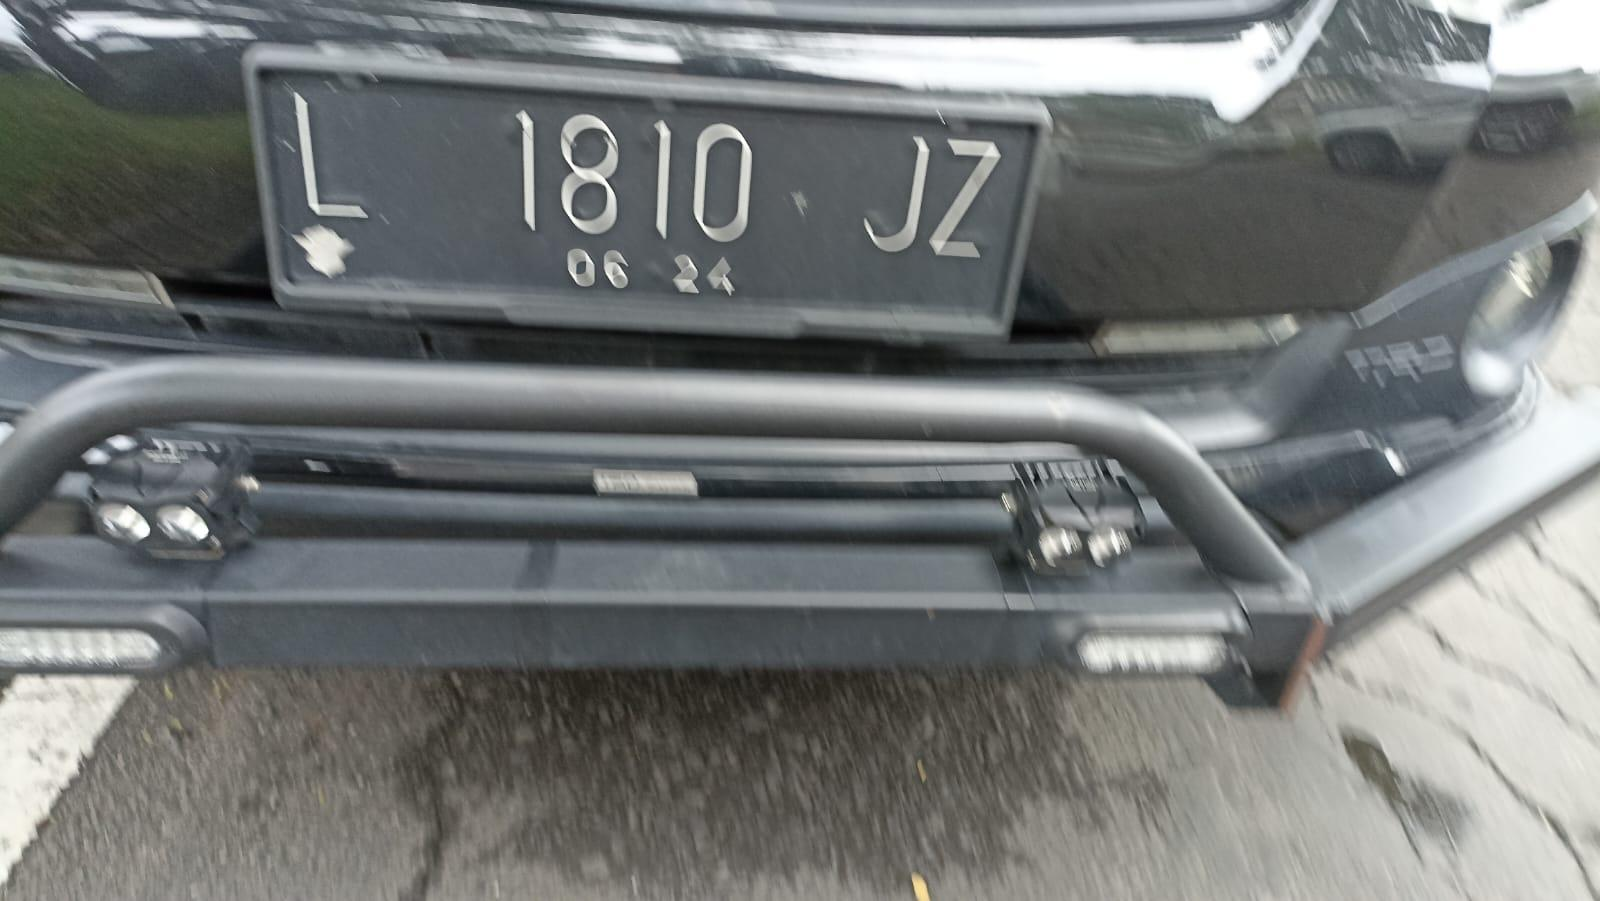plat: (244, 44, 1051, 341)
